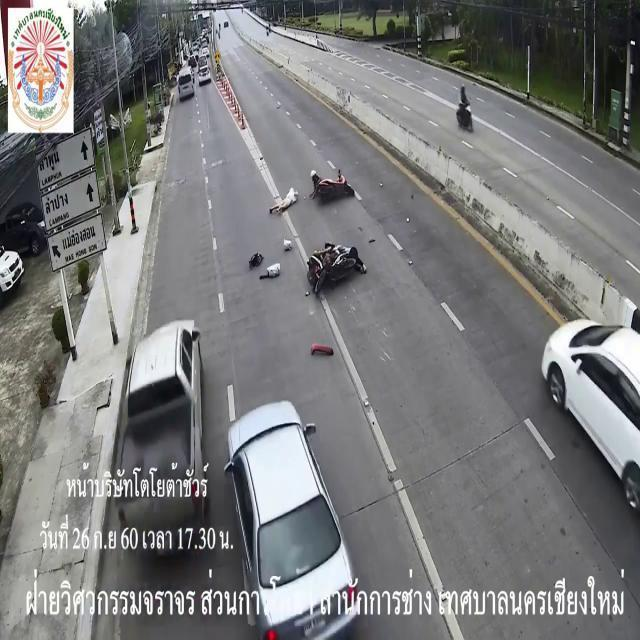accident: (248, 168, 384, 358)
non-accident: (117, 318, 363, 640), (178, 54, 210, 102), (198, 55, 212, 87)
